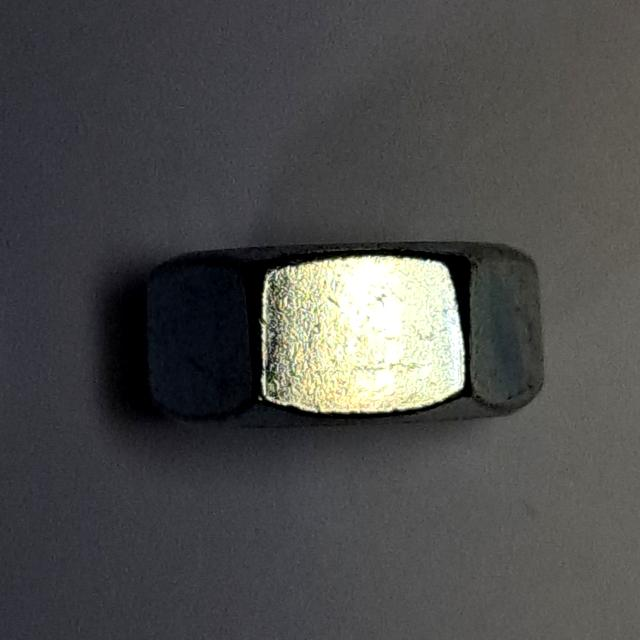Side_Excellent: (134, 222, 558, 447)
